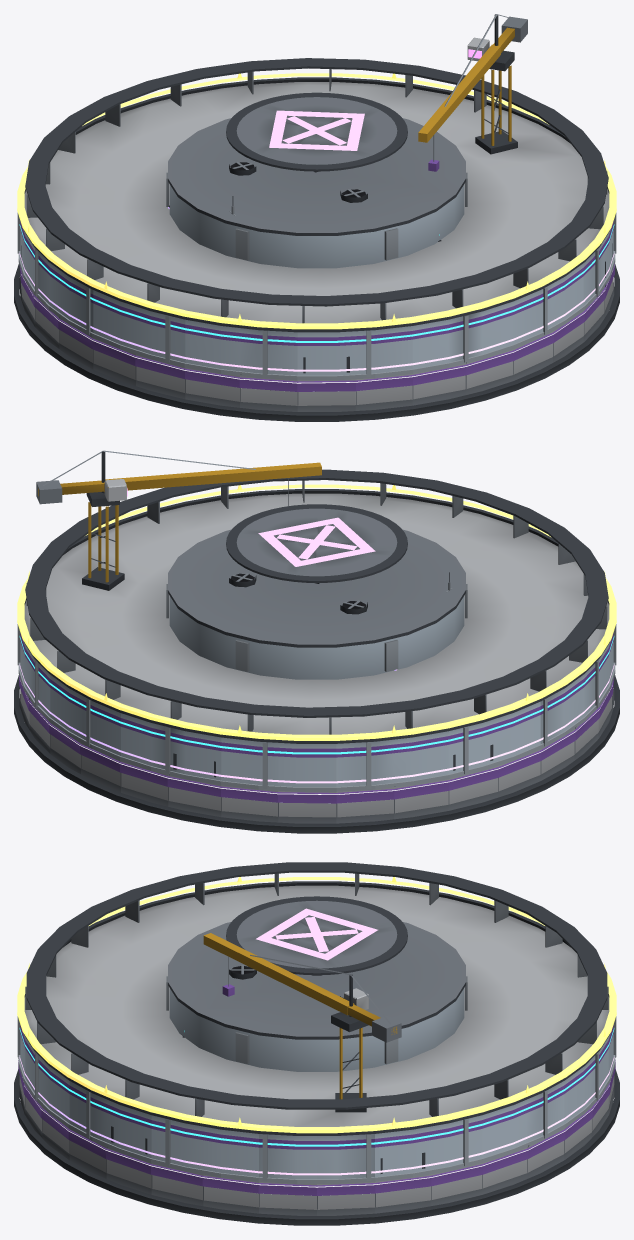
File: cold_storage_xl_far.glb
3 views of the same model, one above another, from view 1: azimuth 30°, elevation 25°; view 2: azimuth 150°, elevation 25°; view 3: azimuth 270°, elevation 25° (orthographic).
Visible parts, largest first — view 1: Roof, Base, L5, L2, L4, L3; view 2: Roof, Base, L5, L2, L4, L3; view 3: Roof, Base, L5, L2, L3, L4.
Part boxes in pixels (bbox=[...]): Roof: bbox=[17, 14, 616, 377]; Base: bbox=[14, 264, 619, 421]; L5: bbox=[17, 73, 616, 329]; L2: bbox=[18, 196, 615, 380]; L4: bbox=[19, 205, 614, 371]; L3: bbox=[19, 224, 614, 342]; Roof: bbox=[17, 450, 616, 788]; Base: bbox=[14, 675, 619, 833]; L5: bbox=[17, 484, 616, 740]; L2: bbox=[18, 572, 615, 791]; L4: bbox=[19, 664, 614, 783]; L3: bbox=[19, 636, 614, 754]; Roof: bbox=[17, 862, 616, 1181]; Base: bbox=[14, 1057, 619, 1225]; L5: bbox=[17, 877, 616, 1133]; L2: bbox=[18, 1055, 615, 1183]; L3: bbox=[19, 1028, 614, 1146]; L4: bbox=[19, 1057, 614, 1175].
Bounding box in the file's own units: 21.35 × 8.53 × 21.35.
